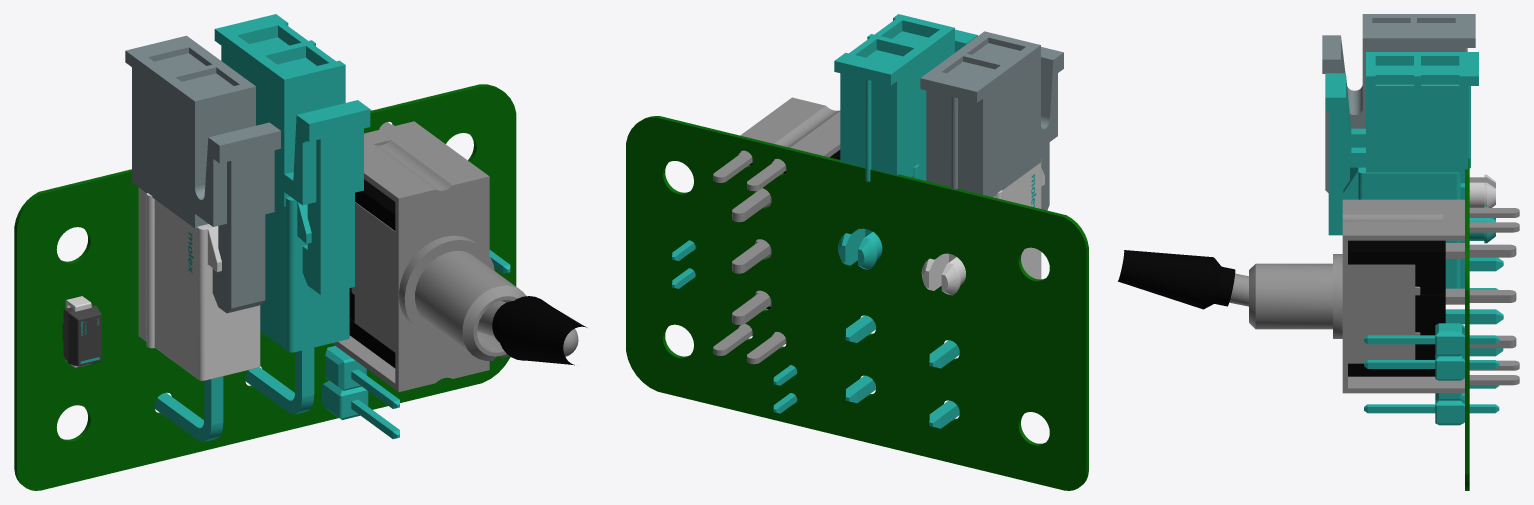
The model's file is pcb1.glb.
3 views of the same model, side by side, from view 1: azimuth 30°, elevation 25°; view 2: azimuth 150°, elevation 25°; view 3: azimuth 270°, elevation 25° (orthographic). The views are drawn at different scales.
Size of the model in its own units: 44 by 34.8 by 37.74.
